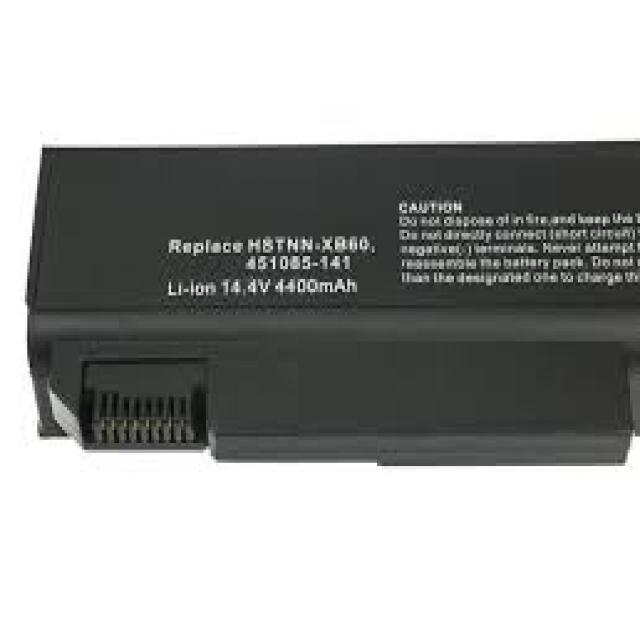battery: (25, 137, 640, 466)
